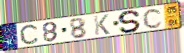8: (69, 17, 88, 39), (42, 21, 59, 43)
C: (142, 7, 164, 29), (19, 24, 40, 46)
K: (93, 14, 111, 36)
S: (117, 10, 143, 34)
